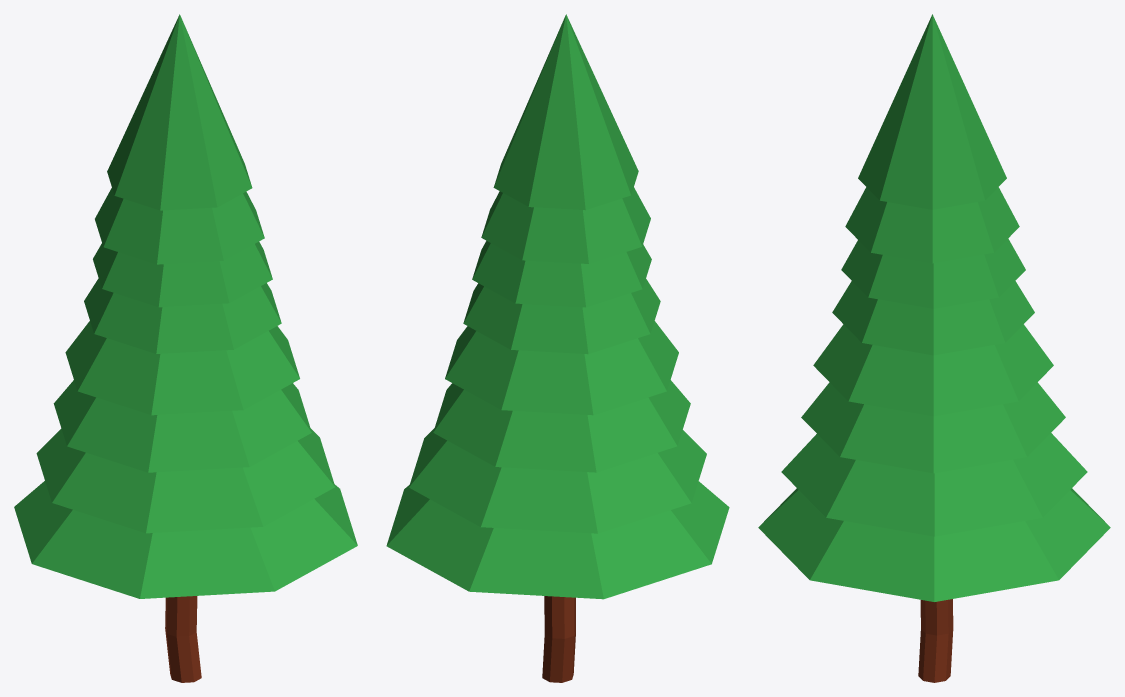
File: tree.10.fbx
3 renders of one model, left to right at view 1: azimuth 30°, elevation 25°; view 2: azimuth 150°, elevation 25°; view 3: azimuth 270°, elevation 25°, orthographic.
Visible parts, largest first — view 1: Tree.010; view 2: Tree.010; view 3: Tree.010.
Part boxes in pixels (x1,y1,x2,y2): Tree.010: (14,14,357,682); Tree.010: (386,14,729,682); Tree.010: (758,14,1110,682).
Bounding box in the file's own units: 436 × 898 × 436.
